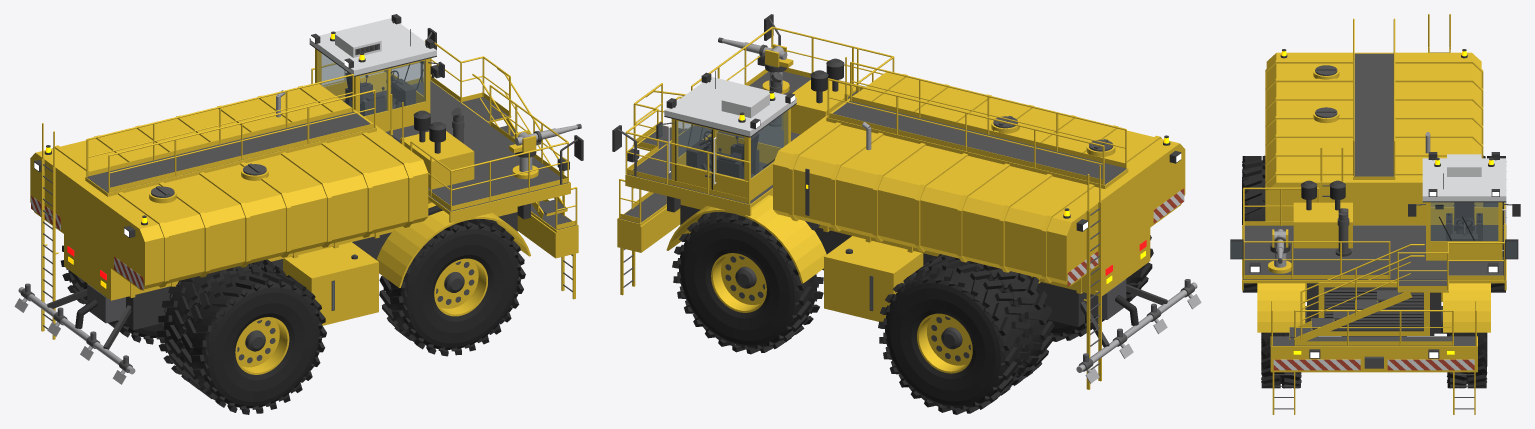
Rendered from water_cart.glb.
3 renders of one model, left to right at view 1: azimuth 30°, elevation 25°; view 2: azimuth 150°, elevation 25°; view 3: azimuth 270°, elevation 25°, orthographic. The views are drawn at different scales.
Visible parts, largest first — view 1: chassis, wheel_rear_right_spin, wheel_front_right_spin, cab, wheel_rear_left_spin; view 2: chassis, wheel_rear_left_spin, wheel_front_left_spin, cab, wheel_rear_right_spin; view 3: chassis, cab, wheel_rear_right_spin, wheel_front_left_spin, wheel_front_right_spin, cannon_tilt, wheel_rear_left_spin.
Part boxes in pixels (x1,y1,x2,y2): chassis: [14, 28, 583, 384]; wheel_rear_right_spin: [157, 259, 326, 414]; wheel_front_right_spin: [379, 219, 525, 356]; cab: [309, 14, 444, 131]; wheel_rear_left_spin: [60, 245, 164, 344]; chassis: [612, 14, 1201, 389]; wheel_rear_left_spin: [878, 254, 1054, 414]; wheel_front_left_spin: [672, 212, 823, 354]; cab: [656, 71, 796, 200]; wheel_rear_right_spin: [1049, 235, 1153, 341]; chassis: [1230, 14, 1518, 414]; cab: [1408, 152, 1520, 260]; wheel_rear_right_spin: [1242, 155, 1265, 292]; wheel_front_left_spin: [1447, 332, 1487, 388]; wheel_front_right_spin: [1261, 332, 1301, 388]; cannon_tilt: [1274, 229, 1285, 263]; wheel_rear_left_spin: [1483, 155, 1506, 292].
Bounding box in the file's own units: 13.06 × 6.59 × 7.58.
18 materials, 18 textured.
